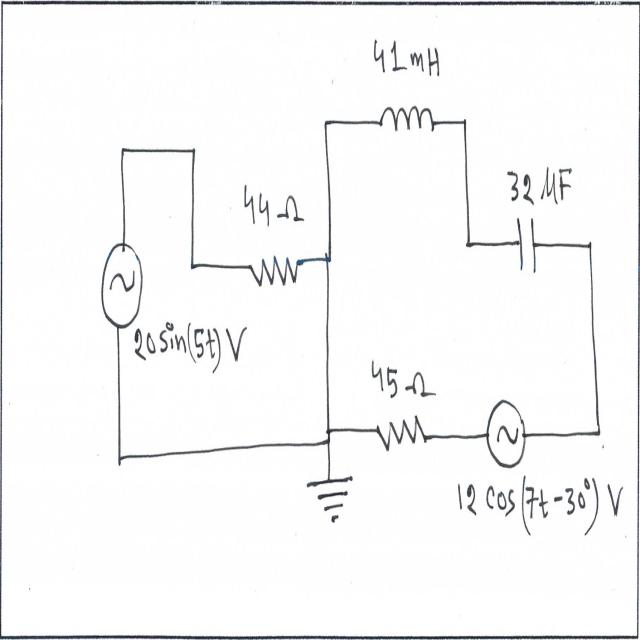ac_current: (480, 397, 531, 478), (101, 243, 145, 335)
capacitor: (513, 209, 539, 283)
ground: (305, 468, 355, 532)
inductor: (373, 103, 439, 151)
resistor: (372, 410, 434, 462), (247, 245, 302, 298)
